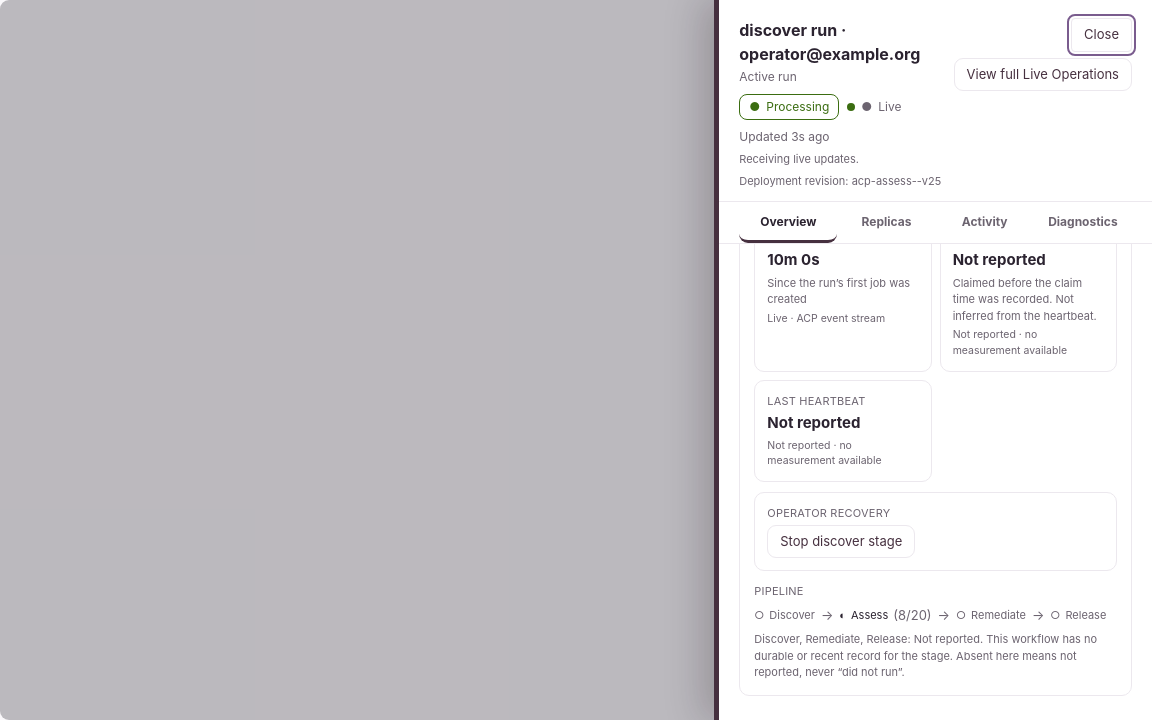
it: Primary visualization per node › offers the existing discovery stop with scope-specific confirmation copy
(page scrolled)
Click the button "Stop discover stage": (841, 541) [767,524,915,558]
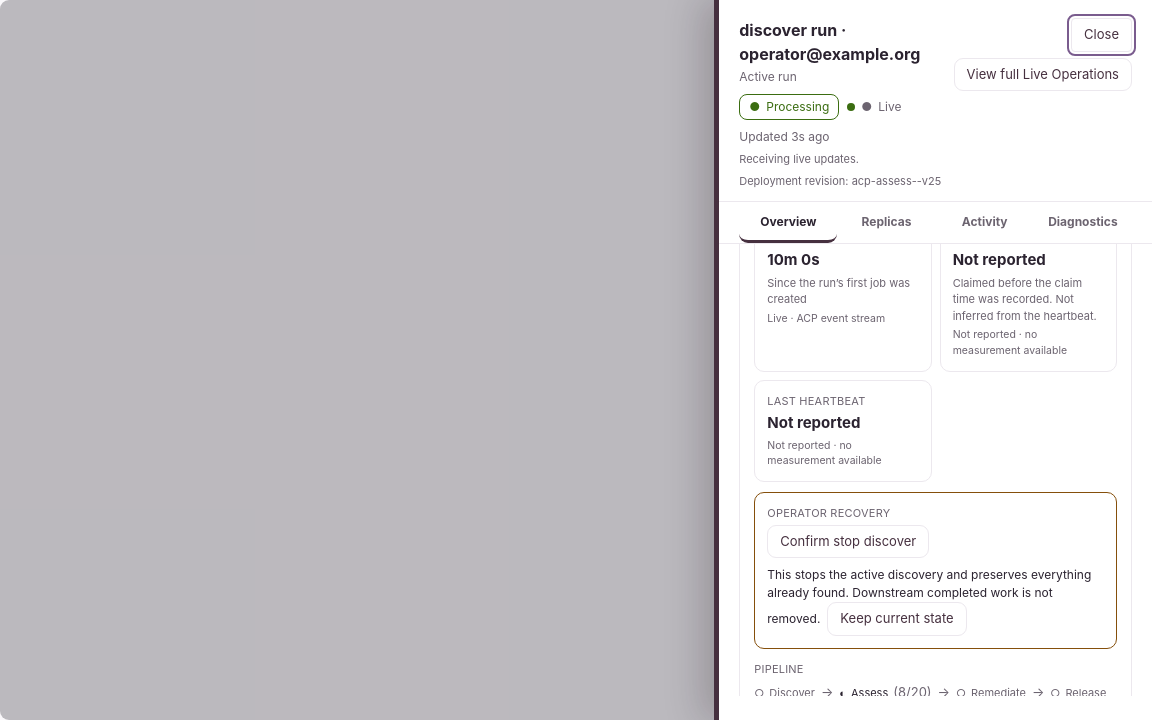
Expected: the text "preserves everything already found" is shown, [767,567,1091,626]
